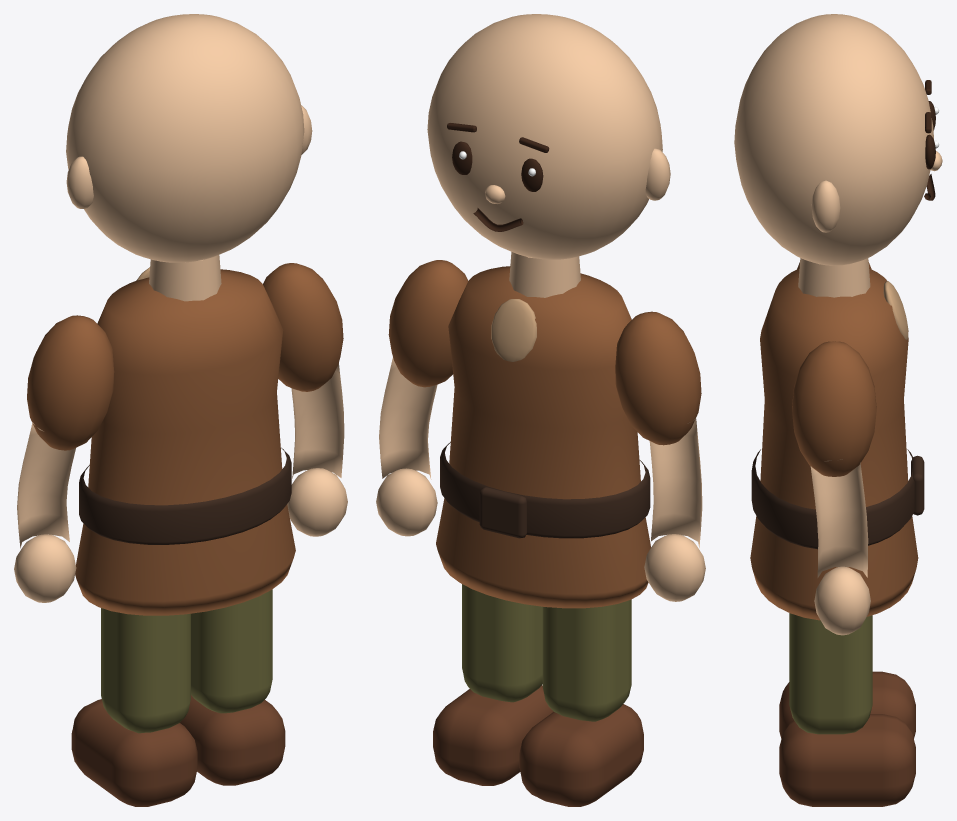
Rendered from NPC_CUSTOMER.glb.
The picture shows the model from 3 angles, left to right: view 1: azimuth 30°, elevation 25°; view 2: azimuth 150°, elevation 25°; view 3: azimuth 270°, elevation 25°; orthographic projection.
Visible parts, largest first — view 1: skin, tunic, legs, sleeves, boots, belt; view 2: skin, tunic, legs, boots, sleeves, belt, shirt_collar, face_features; view 3: skin, tunic, boots, sleeves, legs, belt, face_features, shirt_collar.
Part boxes in pixels (x1,y1,x2,y2): skin: [14, 14, 347, 602]; tunic: [75, 269, 295, 615]; legs: [101, 589, 272, 733]; sleeves: [27, 263, 343, 450]; boots: [71, 695, 285, 806]; belt: [79, 447, 291, 544]; skin: [376, 14, 705, 601]; tunic: [436, 266, 650, 608]; legs: [462, 584, 631, 721]; boots: [433, 685, 643, 806]; sleeves: [388, 260, 701, 445]; belt: [440, 442, 650, 538]; shirt_collar: [491, 299, 536, 361]; face_features: [447, 123, 549, 231]; skin: [734, 14, 942, 635]; tunic: [750, 268, 918, 620]; boots: [779, 671, 915, 806]; sleeves: [792, 262, 876, 476]; legs: [789, 613, 872, 734]; belt: [751, 449, 924, 549]; face_features: [924, 80, 935, 200]; shirt_collar: [883, 281, 908, 339].
Size of the model in its own units: 2.24 by 4.98 by 1.25.
